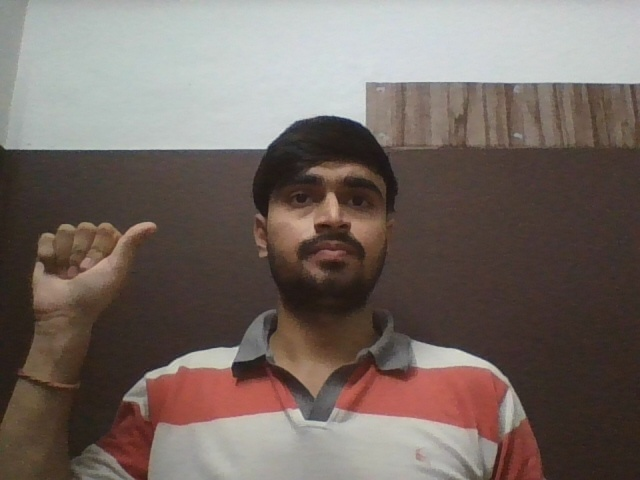A: (31, 220, 158, 319)
